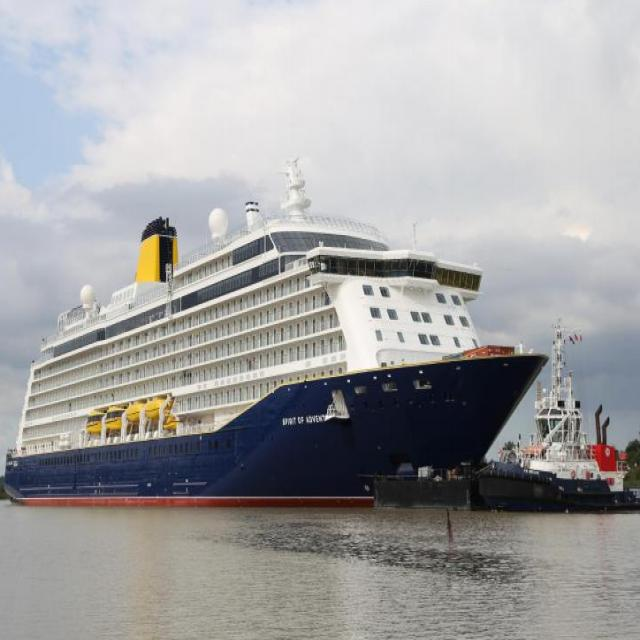cruises: (1, 156, 553, 521)
